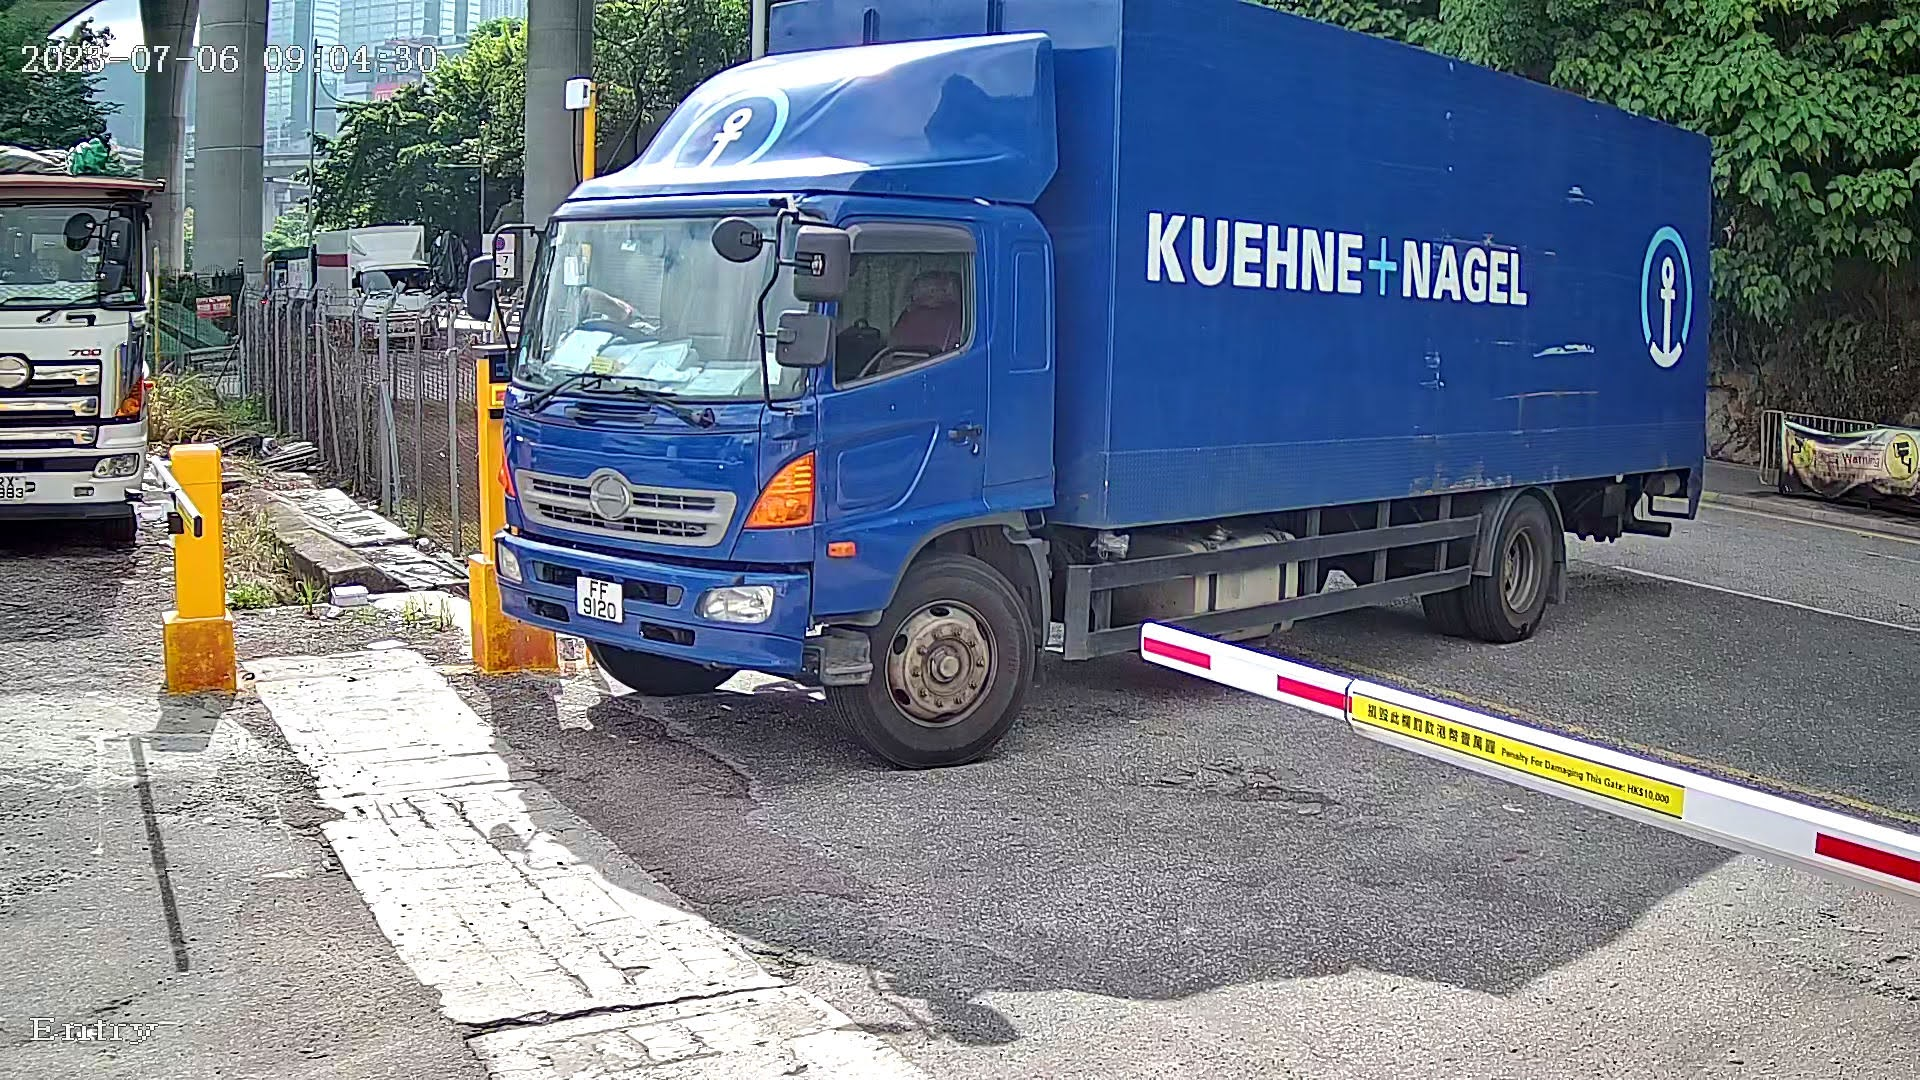truck: (458, 1, 1775, 750)
